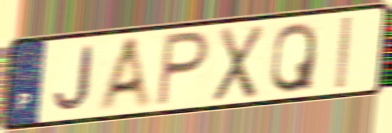A: (95, 34, 156, 112)
I: (334, 14, 354, 91)
J: (52, 44, 96, 112)
P: (154, 28, 212, 109)
Q: (268, 19, 319, 95)
X: (210, 22, 267, 105)
